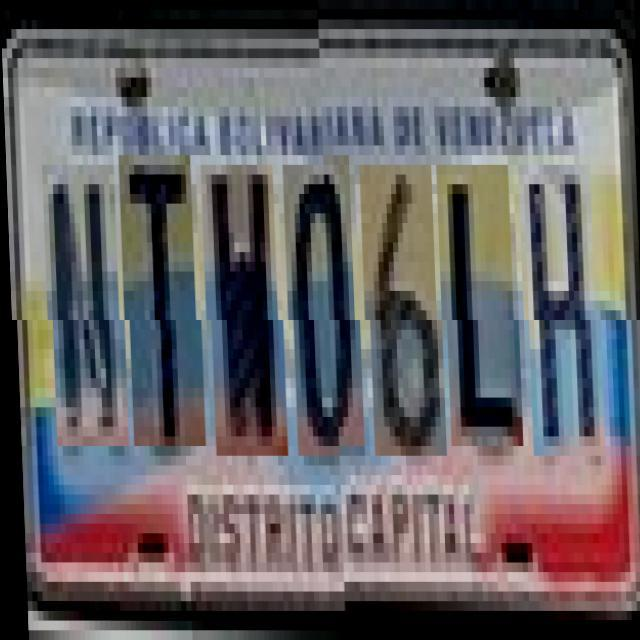6: (364, 174, 444, 466)
H: (522, 174, 602, 466)
L: (440, 174, 520, 456)
N: (46, 165, 126, 446)
O: (286, 165, 362, 456)
T: (122, 155, 202, 446)
W: (204, 165, 284, 456)
